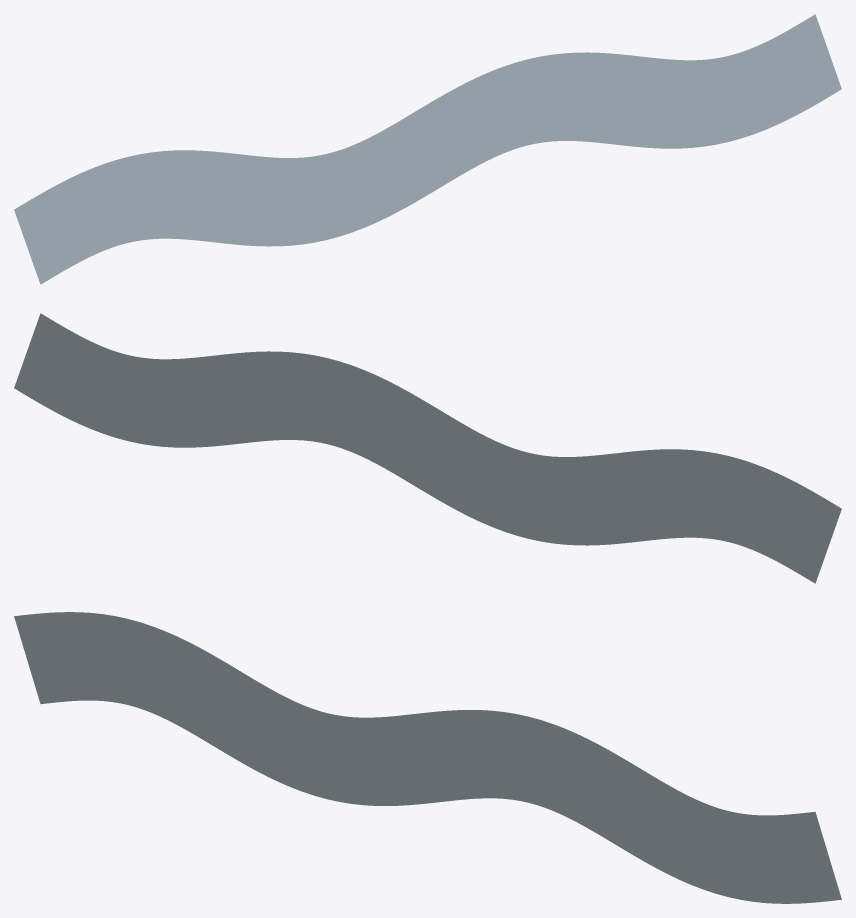
Rendered from 2073_SharkWave_SharedWaterFront.fbx.
The picture shows the model from 3 angles, top to bottom: view 1: azimuth 30°, elevation 25°; view 2: azimuth 150°, elevation 25°; view 3: azimuth 330°, elevation 25°; orthographic projection.
Visible parts, largest first — view 1: PART_SharedBreakingWaterFront; view 2: PART_SharedBreakingWaterFront; view 3: PART_SharedBreakingWaterFront.
Boxes of the visible parts, left/top/right/bottom form: PART_SharedBreakingWaterFront: left=14, top=14, right=841, bottom=284; PART_SharedBreakingWaterFront: left=14, top=313, right=841, bottom=583; PART_SharedBreakingWaterFront: left=14, top=612, right=841, bottom=903.
Size of the model in its own units: 684 by 104 by 1.69e-05.
